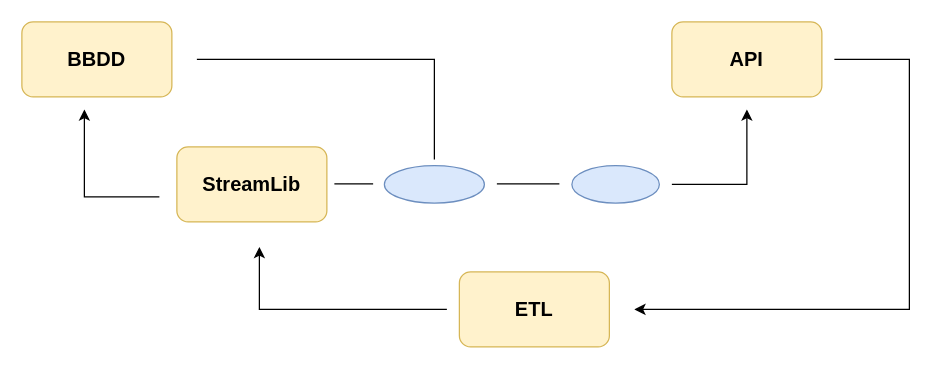
This 941x369 diagram has some shape labels left out. The shapes that lost their labels are listed below. From the top down, each one's box as (x1, y1, x2, y2) in pixels, then its label:
(383, 164, 484, 203): FILTROS
(571, 164, 659, 203): RAG
